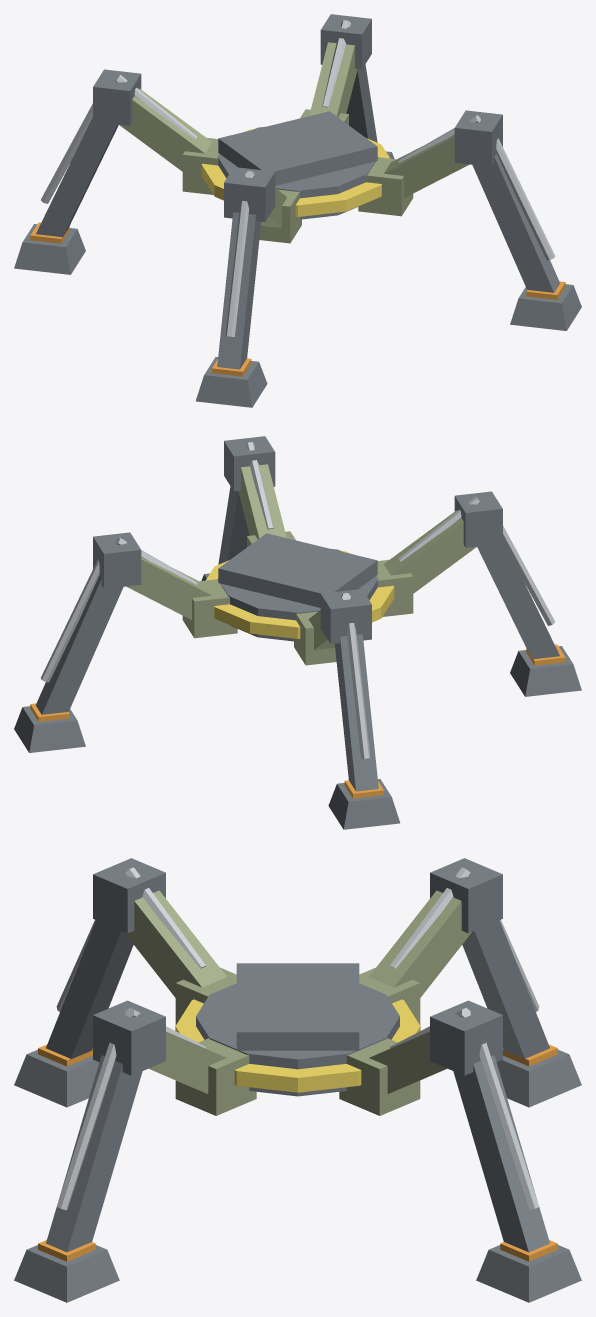
The model's file is mech-hangar-and-battle-frames-quad-legs-e1a655c6__26819.glb.
3 renders of one model, top to bottom at view 1: azimuth 30°, elevation 25°; view 2: azimuth 150°, elevation 25°; view 3: azimuth 270°, elevation 25°, orthographic. The views are drawn at different scales.
Parts seen in each view (by area): view 1: quad-legs; view 2: quad-legs; view 3: quad-legs.
Boxes of the visible parts, x1,y1,x2,y2 form: quad-legs: (14,14,581,407); quad-legs: (14,436,581,829); quad-legs: (14,858,581,1302).
Size of the model in its own units: 4.17 by 1.98 by 4.17.
